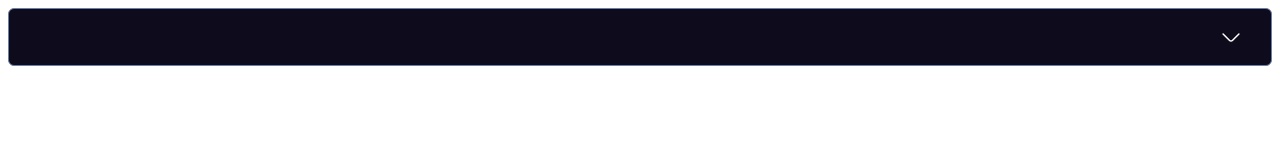
Scenario: Accordion › Default › opens content correctly
Click the button with test id "accordion-header". click: (1231, 37)
box: [8,8,1272,66]
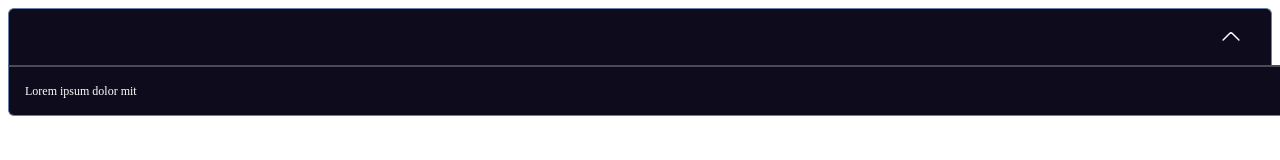
Expected: the button with test id "accordion-header" is expanded, [8,8,1272,65]
